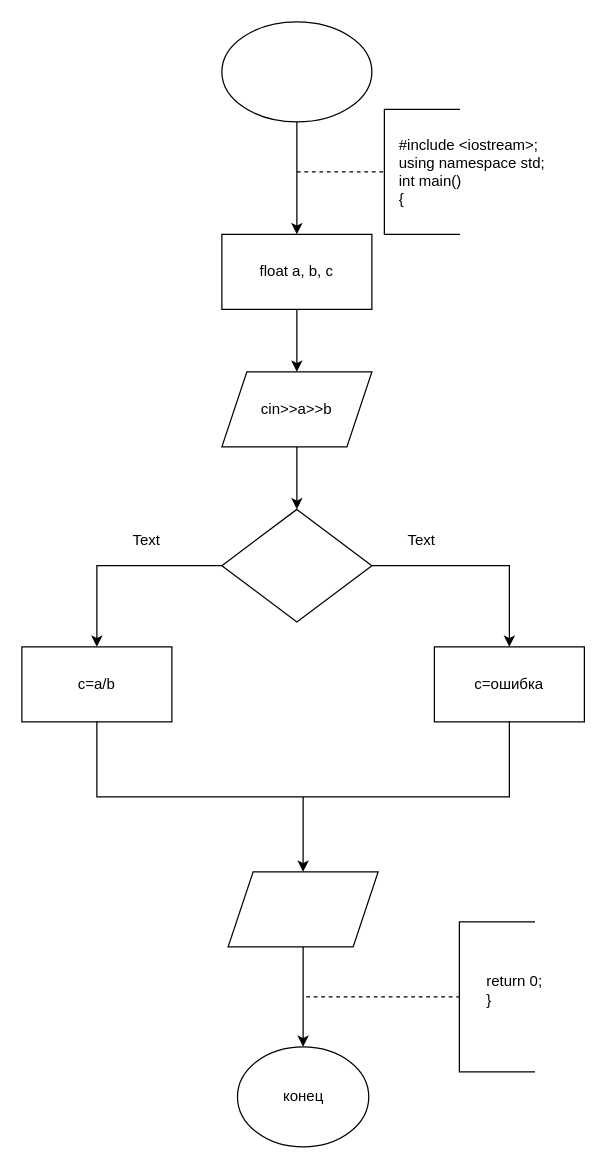
This 606x1169 diagram has some shape labels left out. Here are the shapes that lost their labels. From the top down, the centre of each, then its label:
At pixel 296 71: "начало".
At pixel 296 565: "if b!=0".
At pixel 302 909: "cout<<c<<endl;".
